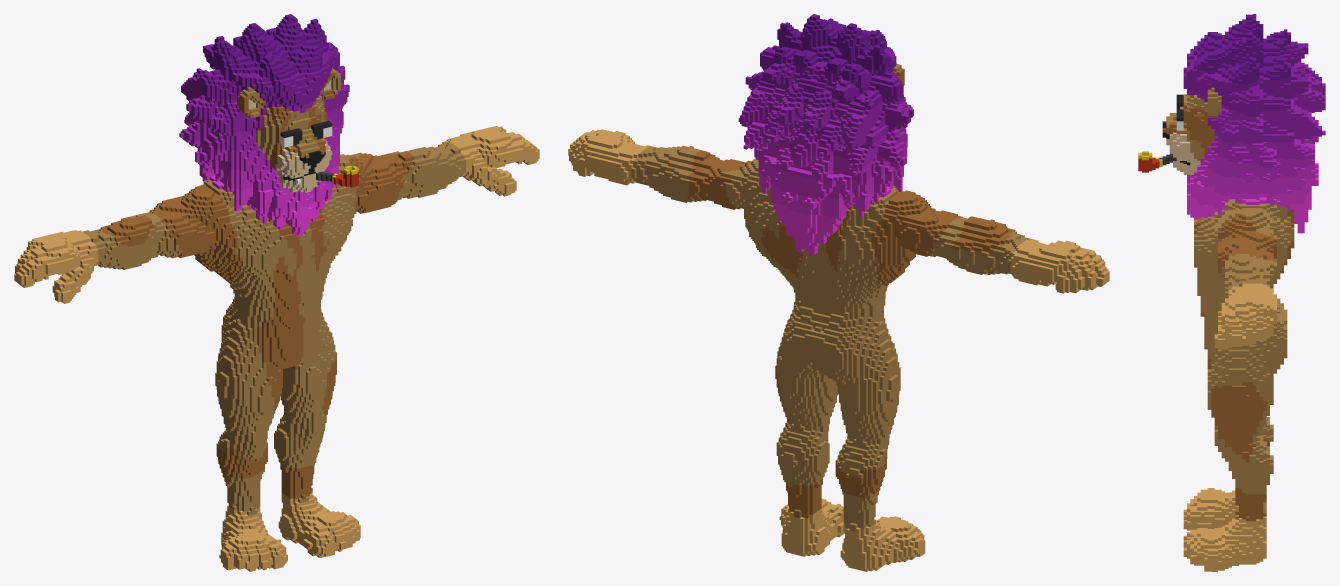
File: 395-9bqSlbLu.glb
3 renders of one model, left to right at view 1: azimuth 30°, elevation 25°; view 2: azimuth 150°, elevation 25°; view 3: azimuth 270°, elevation 25°, orthographic. The views are drawn at different scales.
Parts seen in each view (by area): view 1: pipe; view 2: pipe; view 3: pipe.
Boxes of the visible parts, x1,y1,x2,y2 form: pipe: (14,14,539,571); pipe: (568,14,1109,571); pipe: (1138,14,1325,571).
Bounding box in the file's own units: 17.2 × 16.5 × 5.4.
Materials: 4 (4 with a texture image).
